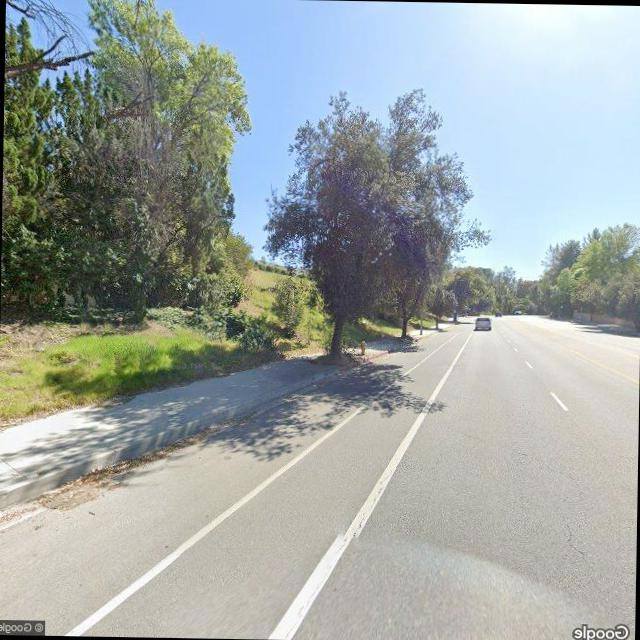pothole: (562, 520, 592, 566)
